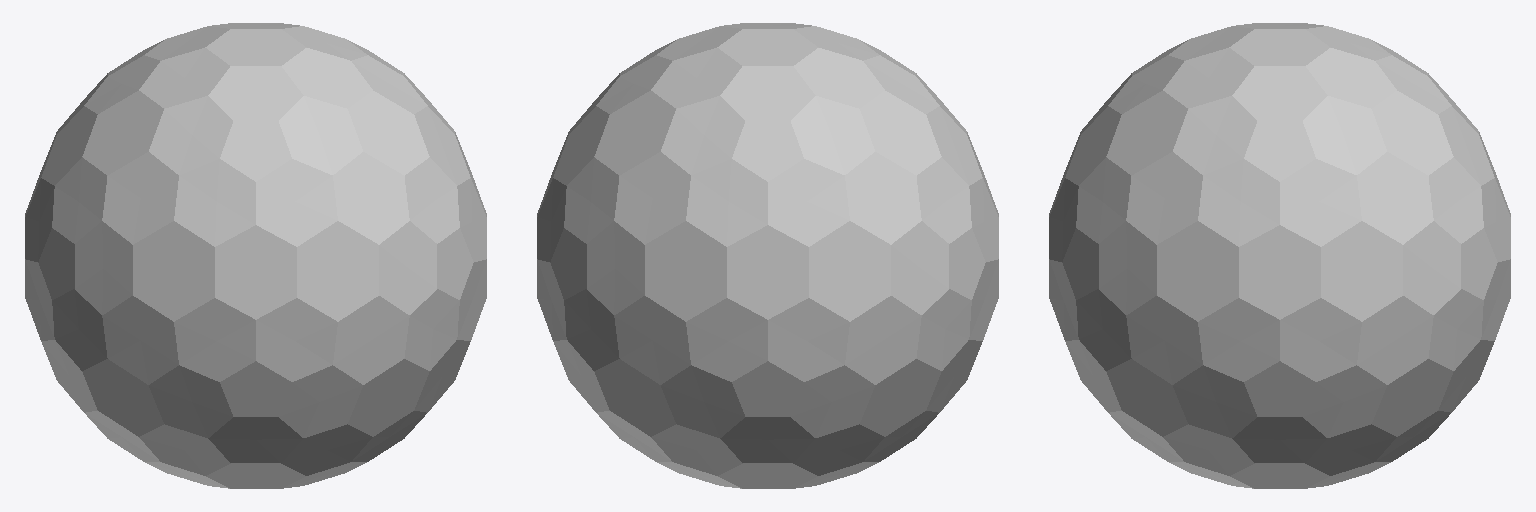
The model's file is BasePlanet.obj.
3 views of the same model, side by side, from view 1: azimuth 30°, elevation 25°; view 2: azimuth 150°, elevation 25°; view 3: azimuth 270°, elevation 25° (orthographic).
Visible parts, largest first — view 1: GD_mesh; view 2: GD_mesh; view 3: GD_mesh.
Part boxes in pixels (x1,y1,x2,y2): GD_mesh: (25, 23, 486, 488); GD_mesh: (537, 23, 998, 488); GD_mesh: (1049, 23, 1510, 488).
Bounding box in the file's own units: 6 × 5.86 × 5.88.